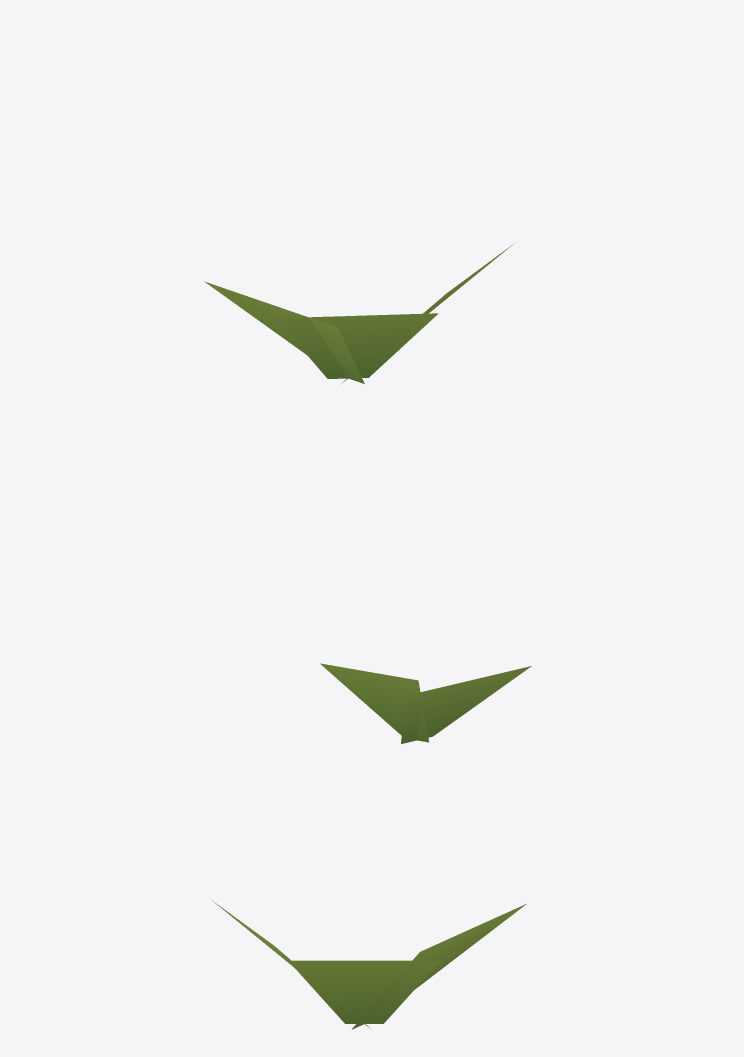
The model's file is fern_0.glb.
3 renders of one model, top to bottom at view 1: azimuth 30°, elevation 25°; view 2: azimuth 150°, elevation 25°; view 3: azimuth 270°, elevation 25°, orthographic. The views are drawn at different scales.
Parts seen in each view (by area): view 1: fern_0; view 2: fern_0; view 3: fern_0.
Part boxes in pixels (box(x1,y1,x2,y2)): fern_0: box(204, 243, 514, 384); fern_0: box(320, 663, 531, 743); fern_0: box(212, 900, 526, 1029).
Size of the model in its own units: 1.21 by 0.3995 by 1.32.
